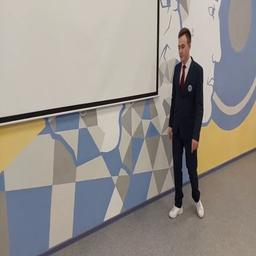person: (167, 28, 204, 218)
